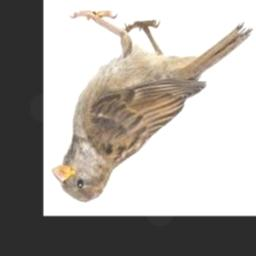Sparrow: (51, 10, 253, 202)
